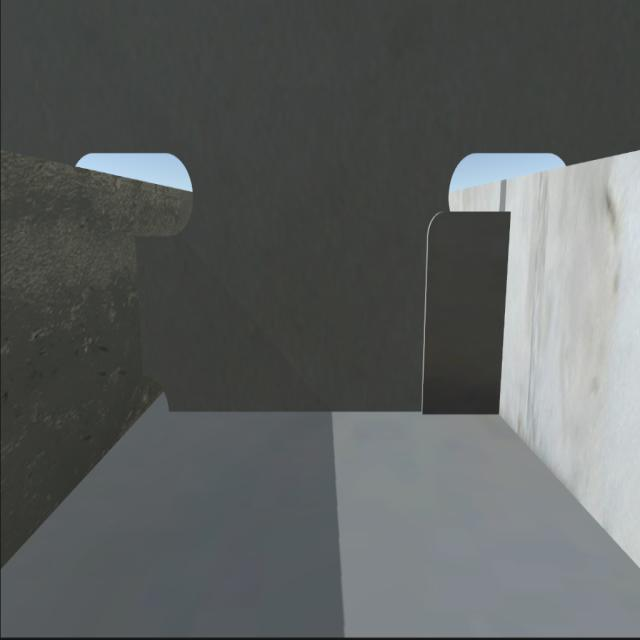fillet_hole: (140, 386, 172, 414), (170, 409, 171, 409)
fillet_yong_jeop_jang: (177, 407, 500, 418)
longi_yong_jeop_jang: (501, 217, 515, 416), (137, 235, 145, 378)
plate_CP05: (420, 212, 504, 413)
